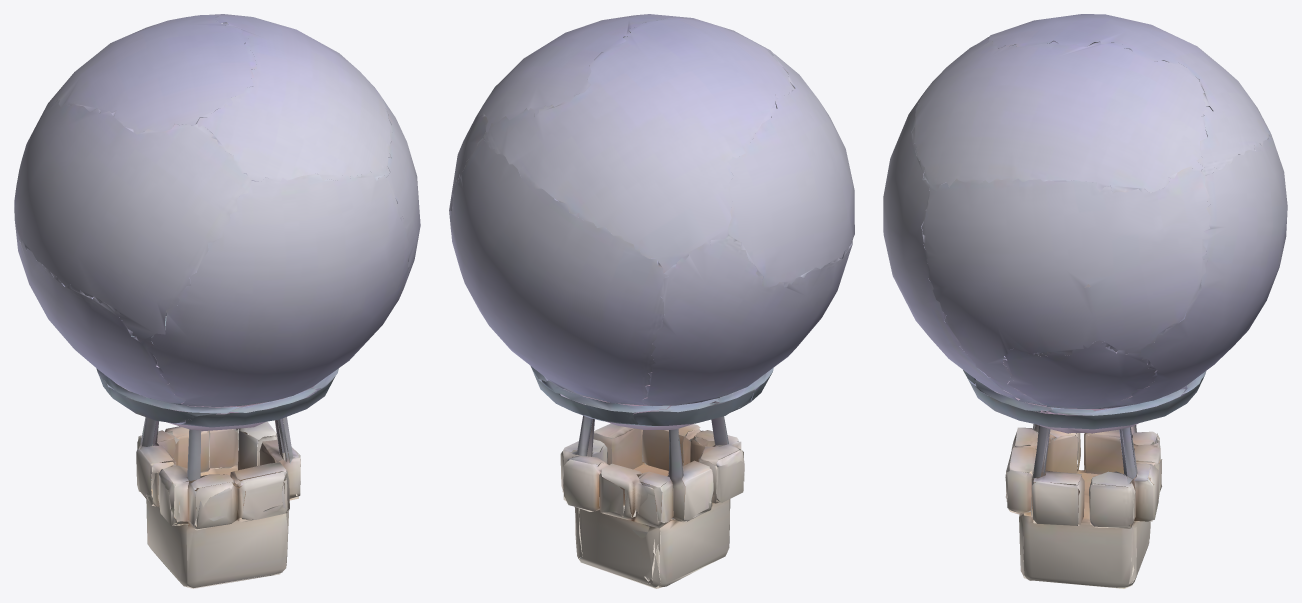
Rendered from balloon1.glb.
3 views of the same model, side by side, from view 1: azimuth 30°, elevation 25°; view 2: azimuth 150°, elevation 25°; view 3: azimuth 270°, elevation 25° (orthographic).
Visible parts, largest first — view 1: node_0; view 2: node_0; view 3: node_0.
Boxes of the visible parts, bbox=[...] form: node_0: bbox=[14, 14, 420, 588]; node_0: bbox=[449, 14, 854, 588]; node_0: bbox=[883, 14, 1287, 588].
Size of the model in its own units: 1.53 by 2.2 by 1.52.
Materials: 1 (1 with a texture image).
